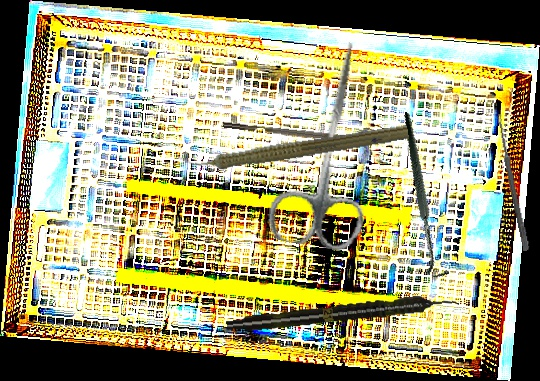Chopper: (222, 114, 389, 148)
Handpiece: (175, 115, 410, 180), (225, 291, 460, 336)
Hook Surgical: (359, 112, 493, 281)
Iris Scissors: (264, 33, 395, 255)
Surgical Spoon: (494, 113, 531, 252)
